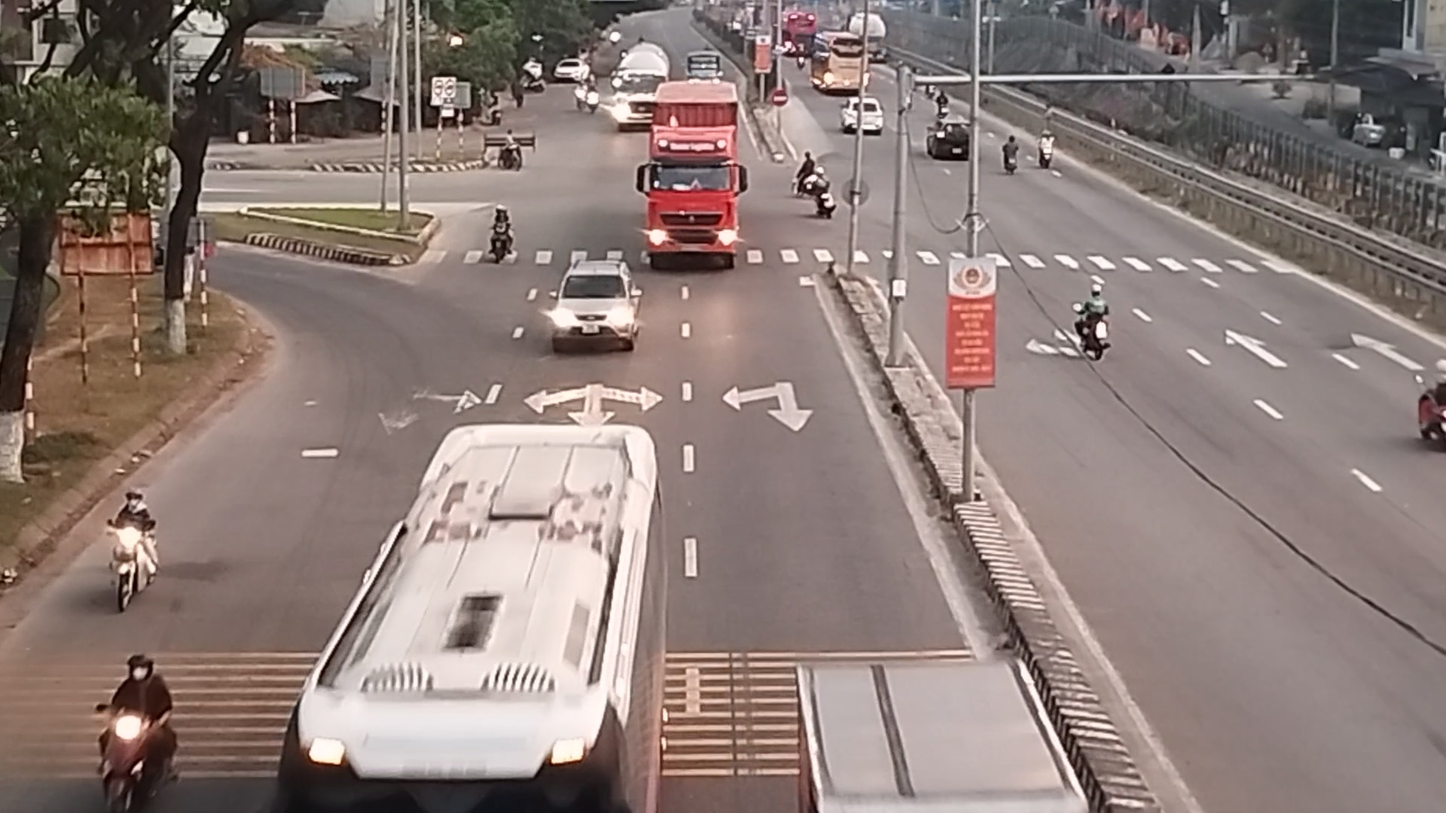Car: (548, 257, 641, 353), (612, 40, 672, 132), (811, 29, 867, 94), (926, 116, 970, 159), (840, 95, 884, 134), (1350, 112, 1386, 147), (553, 57, 590, 83), (522, 56, 543, 80)
Motor: (95, 652, 180, 813), (106, 486, 159, 613), (1072, 275, 1112, 360), (1416, 359, 1446, 452), (490, 205, 515, 264), (791, 151, 816, 198), (814, 166, 836, 219), (1002, 135, 1018, 174), (1038, 130, 1054, 168), (935, 89, 949, 120)
Truck: (636, 77, 749, 270)
